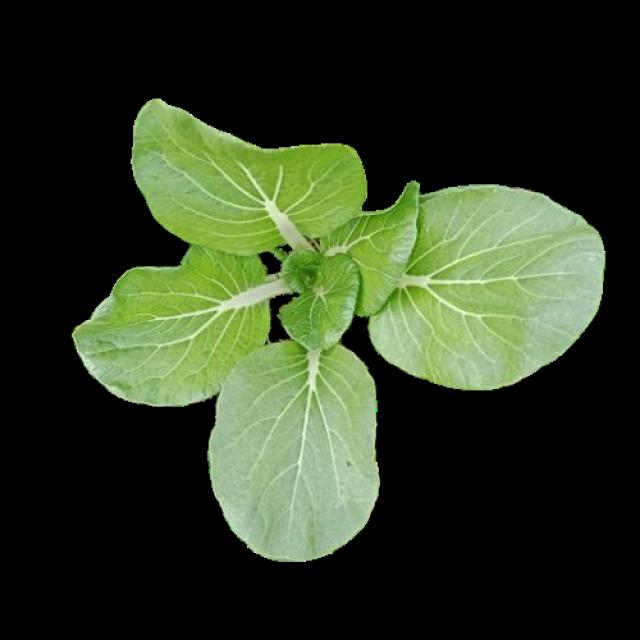mature: (77, 97, 604, 557)
not-mature: (74, 95, 602, 554)
